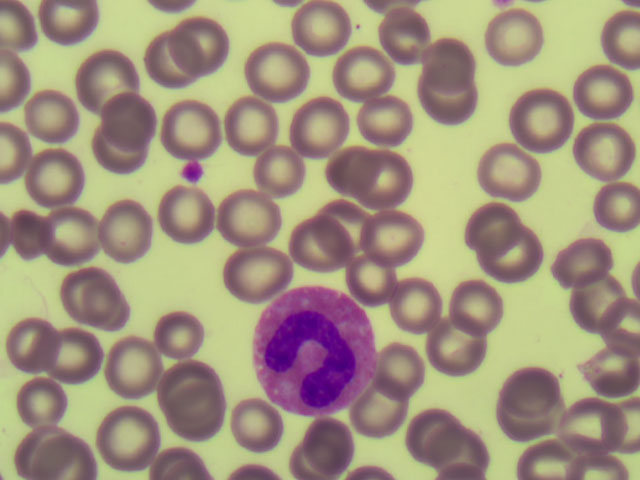Platelets: (178, 159, 208, 182)
RBC: (21, 417, 90, 480), (70, 47, 139, 109), (84, 85, 153, 147), (85, 124, 154, 186), (16, 138, 85, 200), (14, 88, 83, 150), (29, 200, 98, 262), (6, 209, 75, 271), (98, 203, 167, 265), (148, 190, 217, 252), (211, 188, 280, 250), (238, 136, 307, 198), (210, 94, 279, 156), (150, 97, 219, 159), (133, 29, 202, 91), (171, 10, 240, 72), (246, 37, 315, 99), (283, 1, 352, 63), (315, 31, 384, 93), (342, 94, 411, 156), (300, 92, 369, 154), (306, 135, 375, 197), (349, 142, 418, 204), (362, 205, 431, 267), (322, 196, 391, 258), (274, 223, 343, 285), (223, 245, 292, 307), (337, 246, 406, 308), (372, 265, 441, 327), (417, 313, 486, 375), (445, 277, 514, 339), (373, 340, 442, 402), (349, 384, 418, 446), (402, 396, 471, 458), (490, 361, 559, 423), (484, 236, 553, 298), (455, 193, 524, 255), (472, 137, 541, 199), (503, 90, 572, 152), (398, 76, 467, 138), (429, 35, 498, 97), (386, 8, 455, 70), (480, 9, 549, 71), (560, 57, 629, 119), (571, 122, 640, 184), (571, 171, 640, 233), (537, 226, 606, 288), (552, 265, 621, 327), (571, 350, 640, 412), (550, 390, 619, 452), (230, 386, 299, 448), (294, 412, 363, 474), (151, 356, 220, 418), (157, 380, 226, 442), (153, 305, 222, 367), (106, 330, 175, 392), (58, 268, 127, 330), (52, 326, 121, 388), (13, 310, 82, 372), (90, 404, 159, 466), (7, 370, 76, 432)
WBC: (245, 289, 385, 409)
